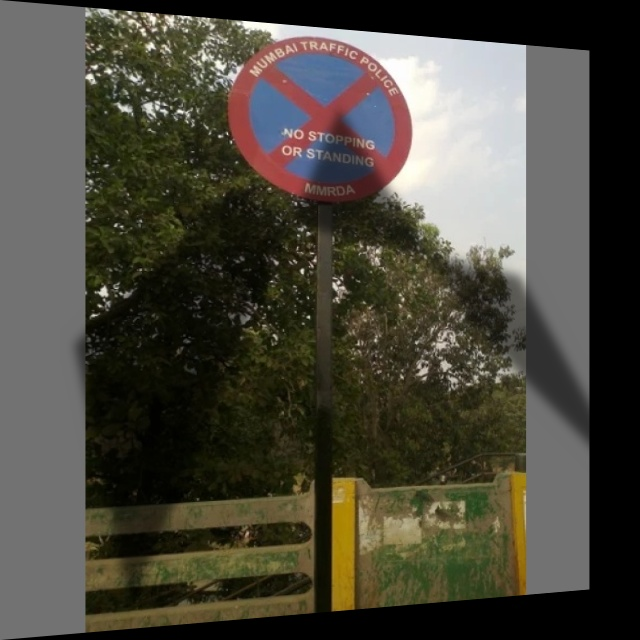No_Stopping_or_Standing: (229, 26, 419, 215)
